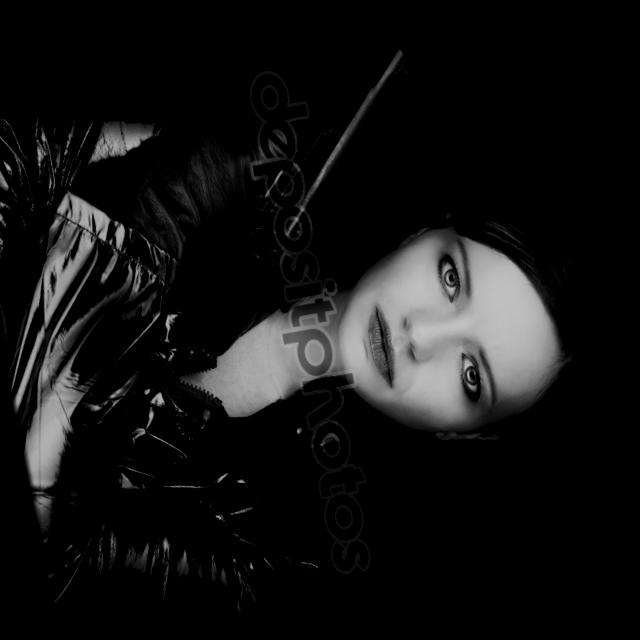handgun: (215, 34, 442, 273)
